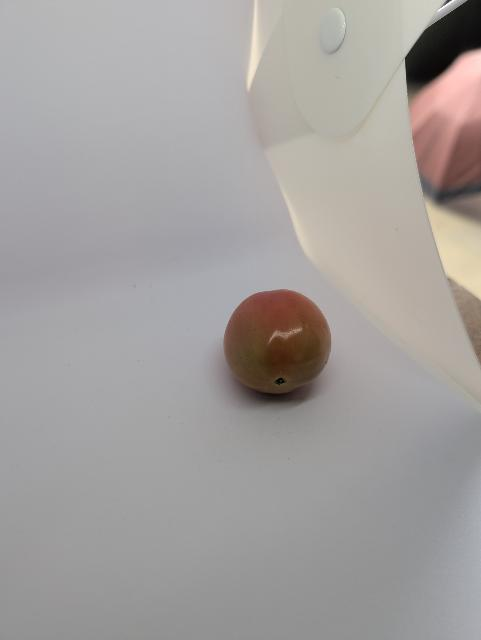turning: (213, 285, 345, 405)
